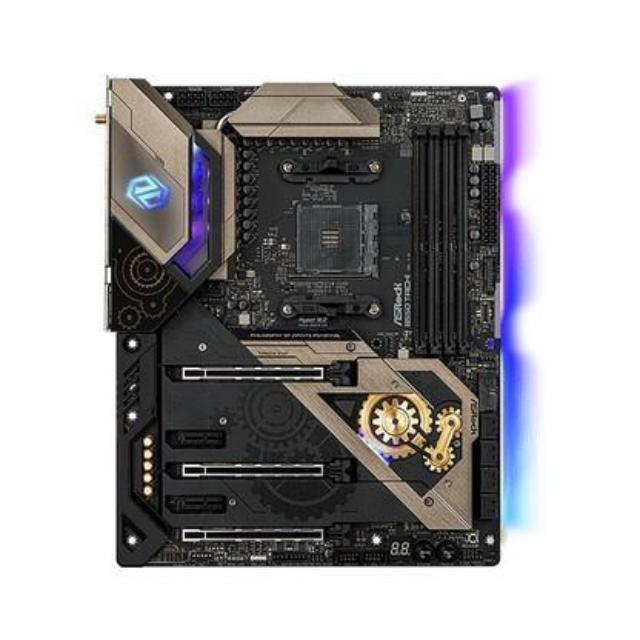Mainboard: (98, 72, 502, 570)
